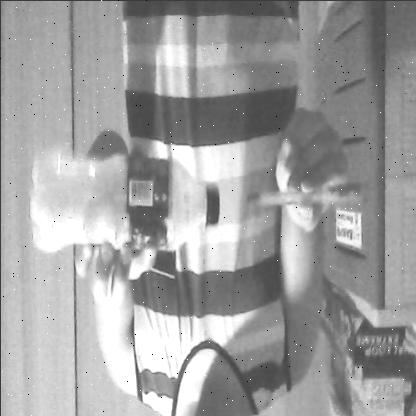Plastic Bottle: (20, 144, 225, 256)
